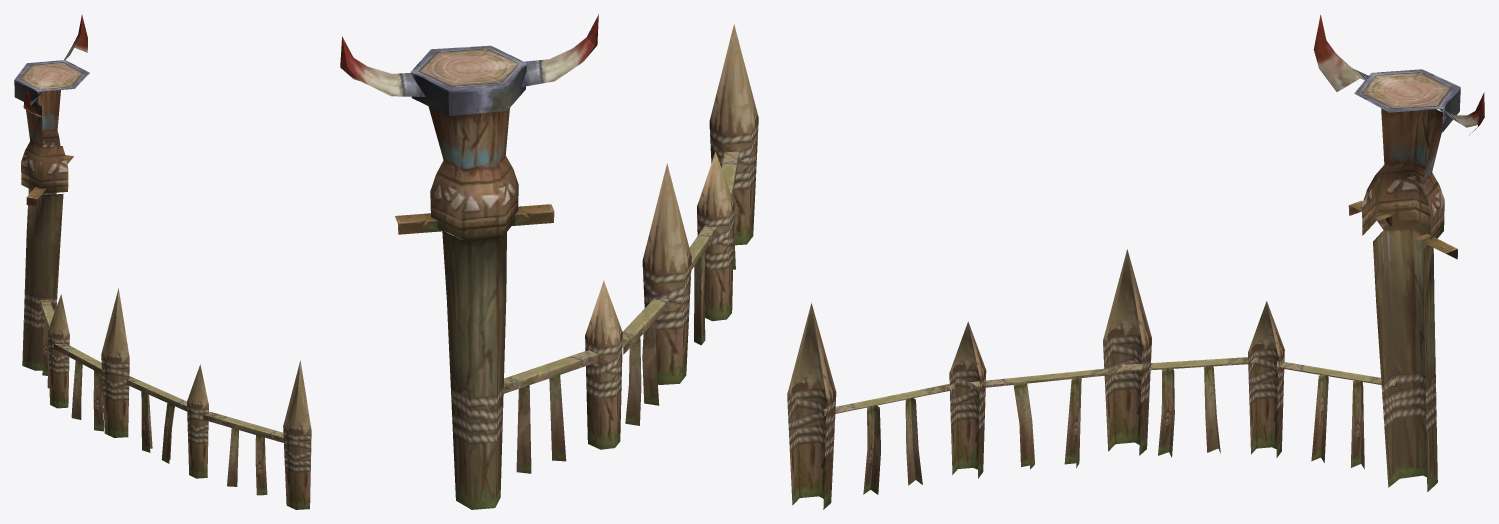
The model's file is wujian_11.FBX.
3 views of the same model, side by side, from view 1: azimuth 30°, elevation 25°; view 2: azimuth 150°, elevation 25°; view 3: azimuth 270°, elevation 25° (orthographic). The views are drawn at different scales.
Visible parts, largest first — view 1: wujian_04; view 2: wujian_04; view 3: wujian_04.
Part boxes in pixels (left/top/right/bottom): wujian_04: left=14, top=14, right=311, bottom=509; wujian_04: left=340, top=14, right=758, bottom=509; wujian_04: left=787, top=15, right=1484, bottom=509.
Size of the model in its own units: 1.48 by 3.75 by 5.4.
